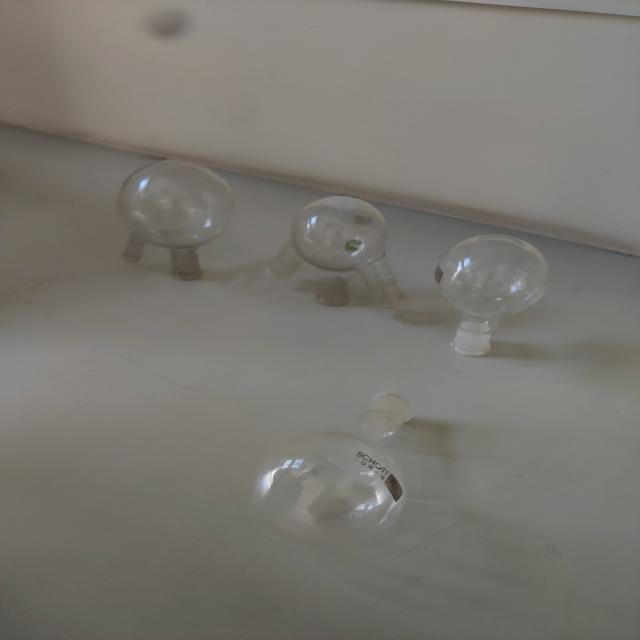Round_Bottom_Flask_Borosilicate_Glass_1_Neck: (224, 376, 461, 568), (432, 211, 564, 371)
Round_Bottom_Flask_Borosilicate_Glass_2_Neck: (94, 133, 254, 303)
Round_Bottom_Flask_Borosilicate_Glass_3_Neck: (254, 152, 418, 335)
